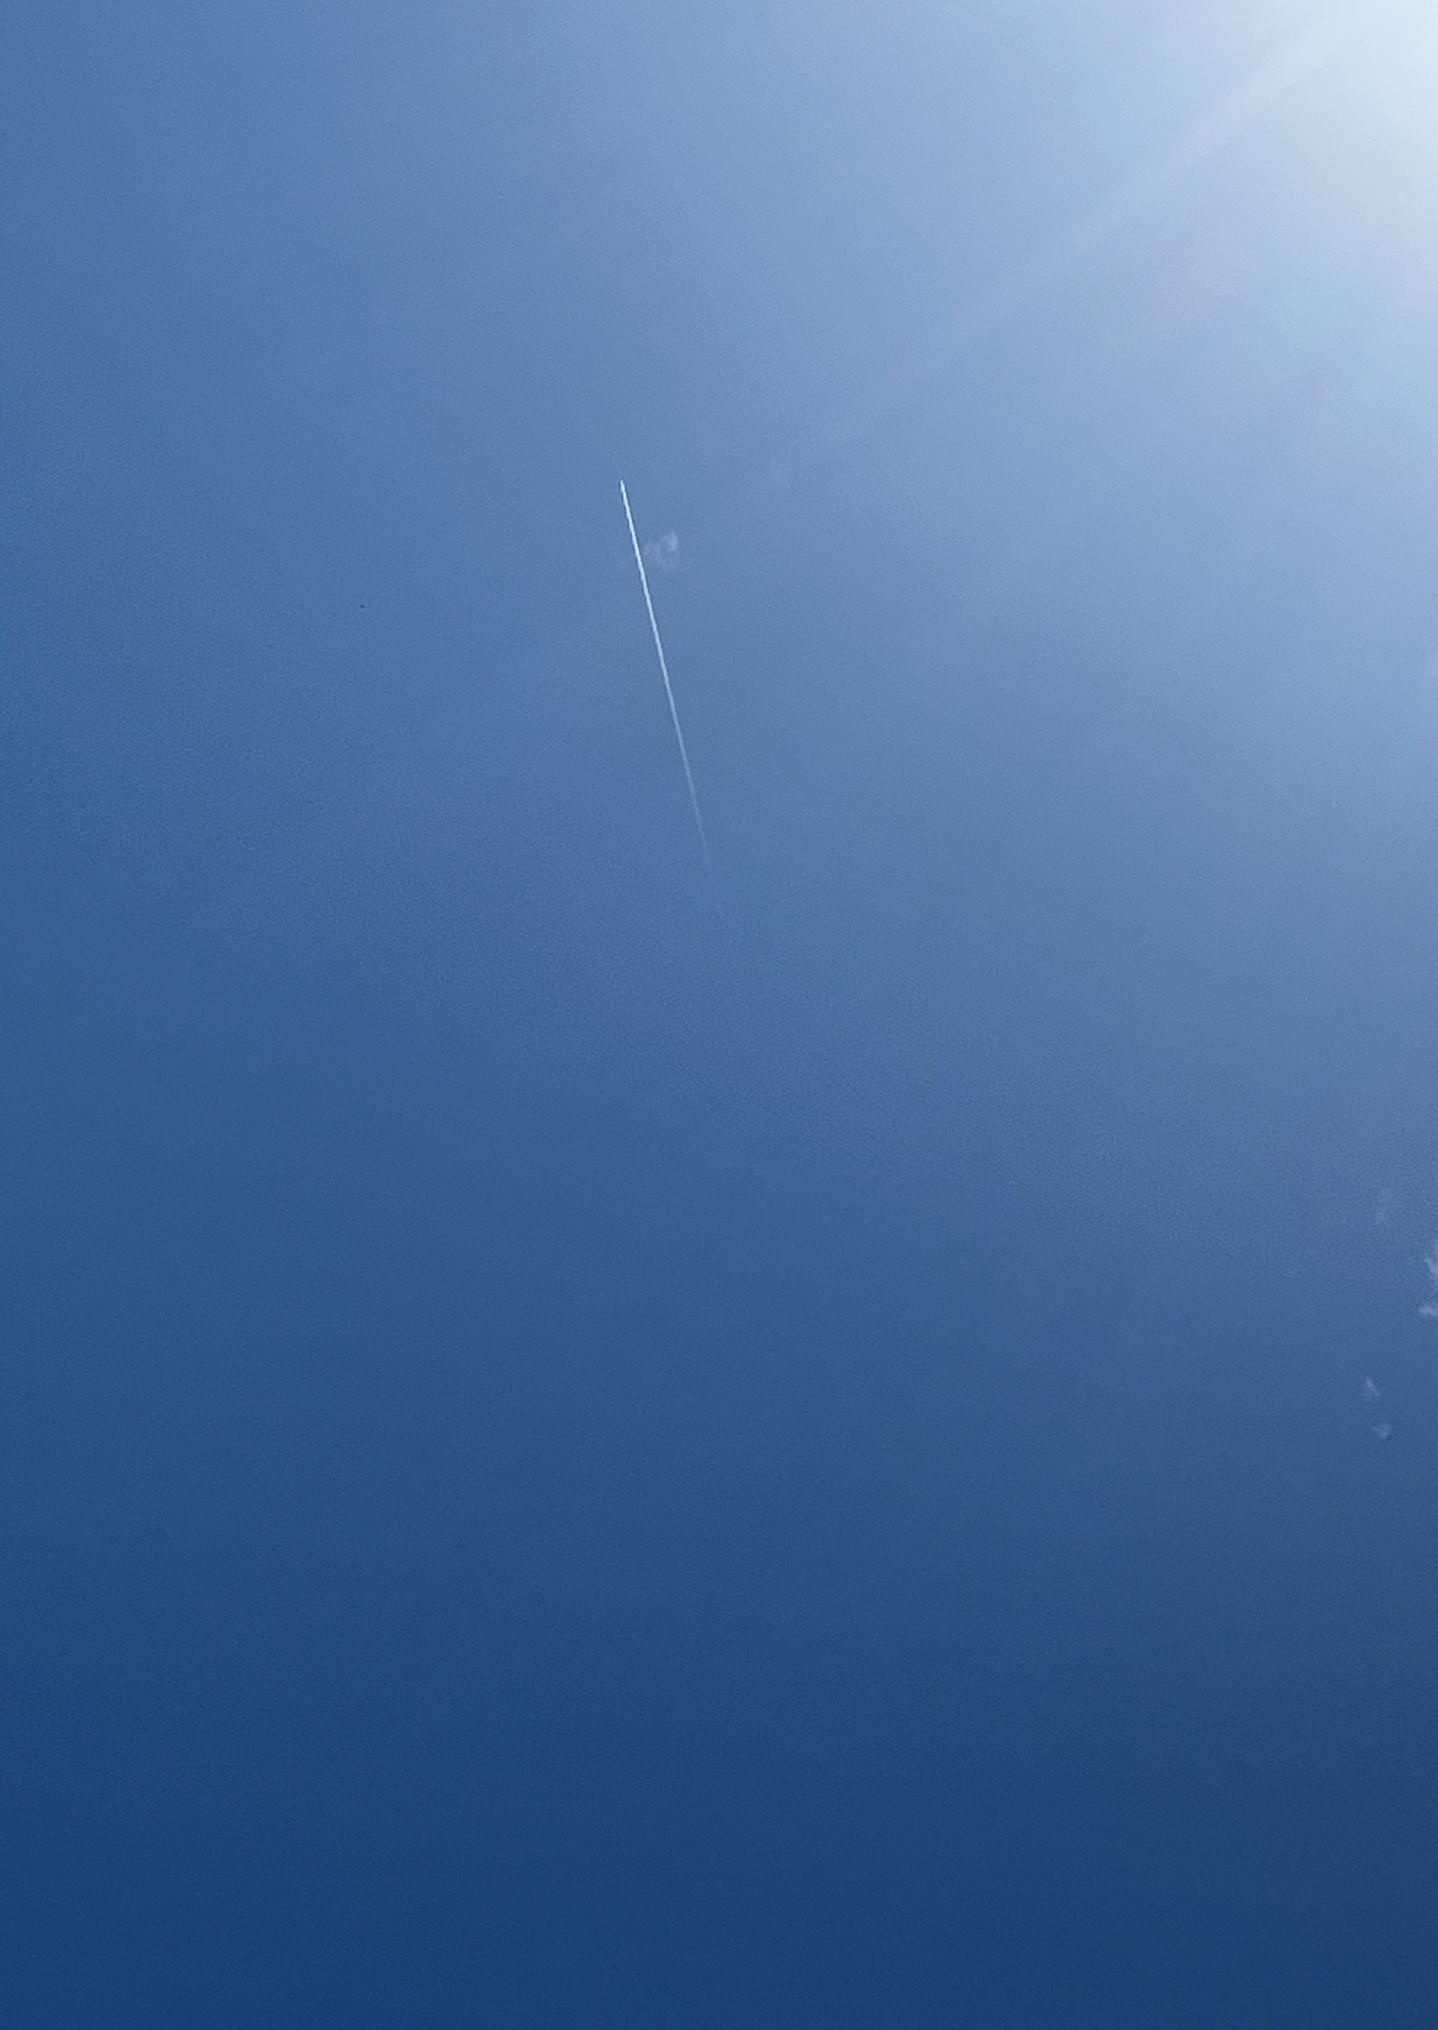Plane: (580, 471, 675, 604)
